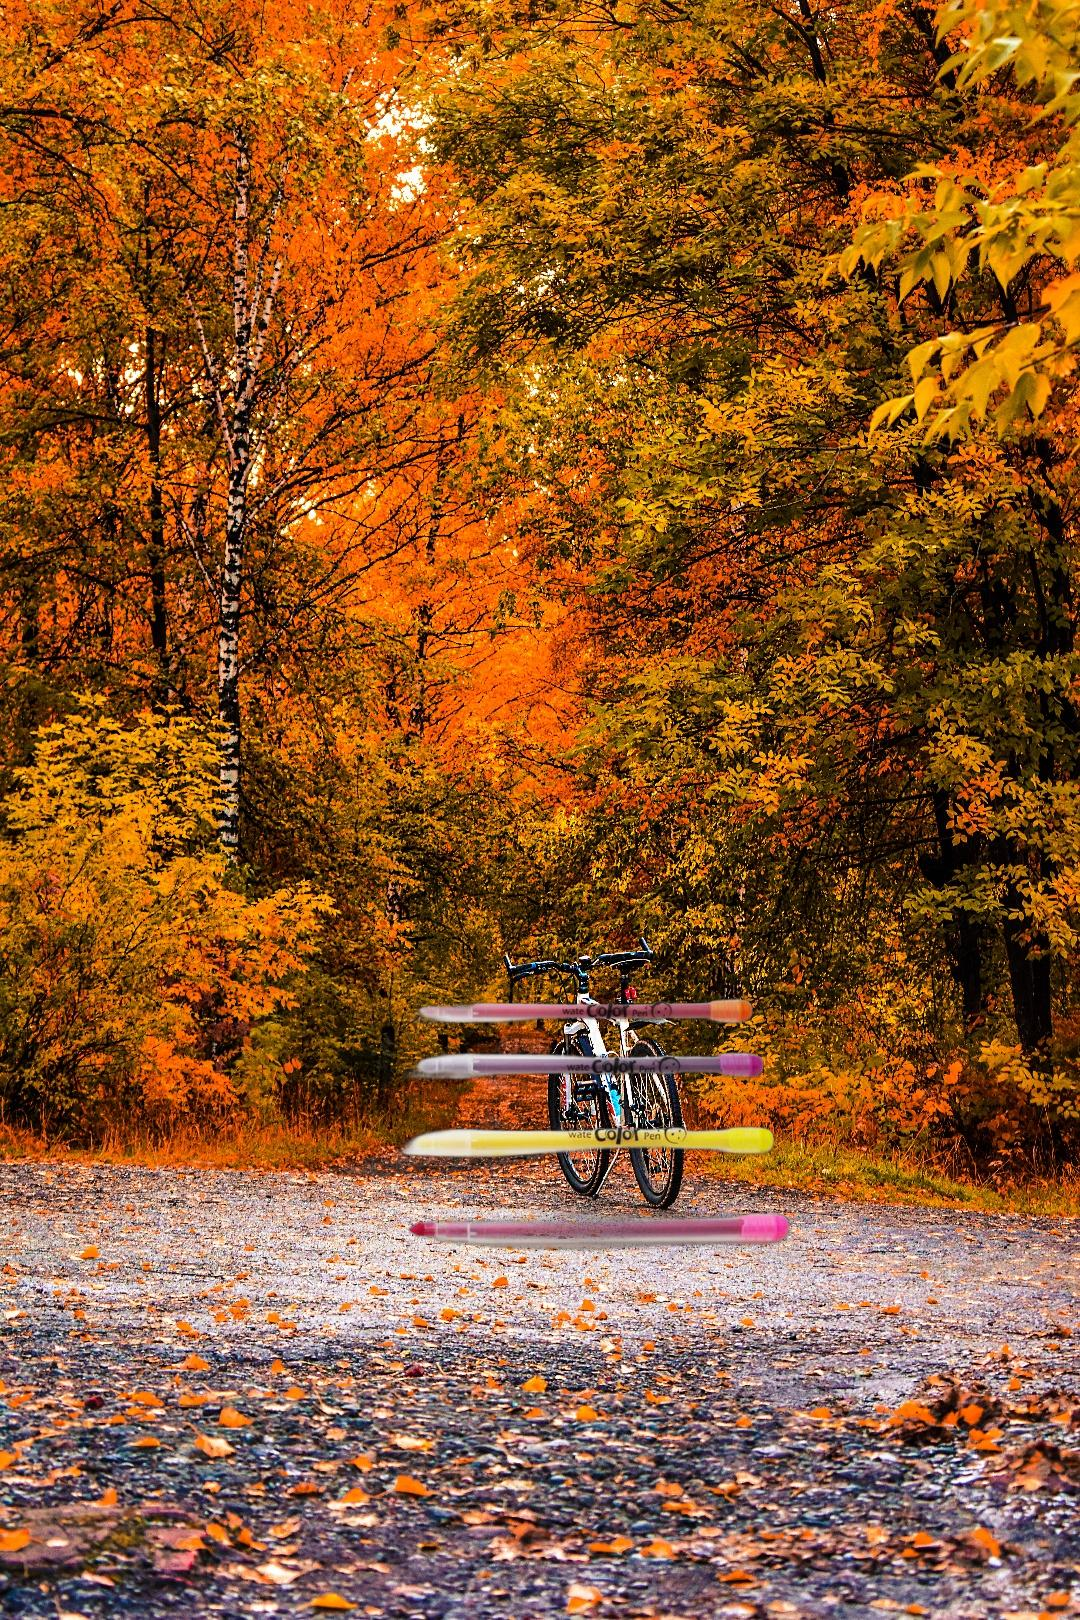penholder: (392, 994, 792, 1254)
